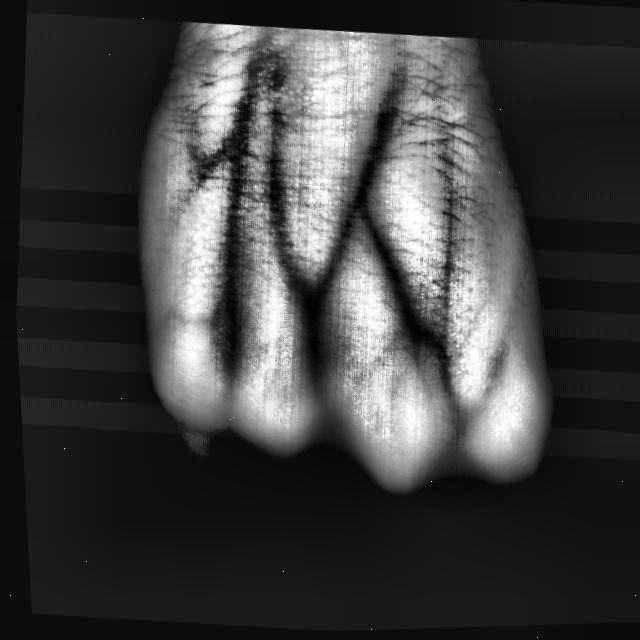Vein: (316, 94, 404, 287), (263, 83, 297, 273)
